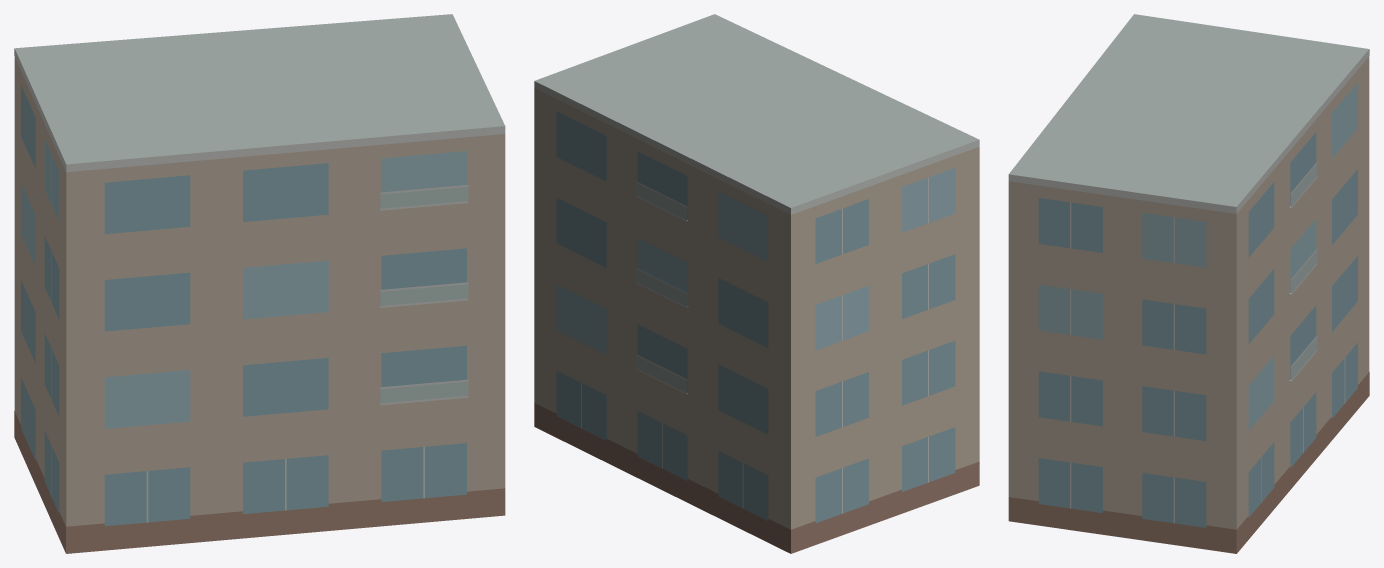
File: survey-upis-32875854.glb
The picture shows the model from 3 angles, left to right: view 1: azimuth 30°, elevation 25°; view 2: azimuth 150°, elevation 25°; view 3: azimuth 270°, elevation 25°; orthographic projection. The views are drawn at different scales.
Visible parts, largest first — view 1: survey-upis-32875854.tmp; view 2: survey-upis-32875854.tmp; view 3: survey-upis-32875854.tmp.
Part boxes in pixels (x1,y1,x2,y2): survey-upis-32875854.tmp: (14,14,505,553); survey-upis-32875854.tmp: (534,14,979,553); survey-upis-32875854.tmp: (1008,14,1369,553).
Bounding box in the file's own units: 14.57 × 12.2 × 11.51.
